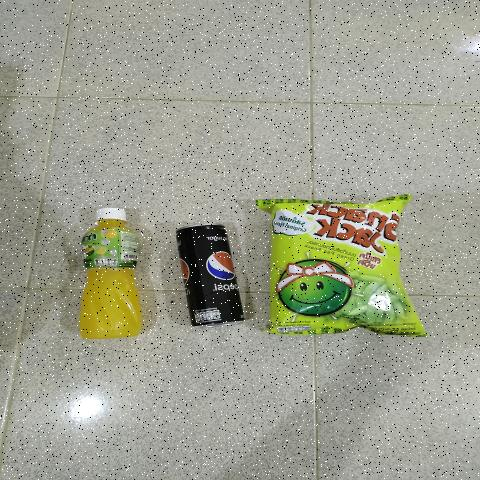pepsi_black: (183, 222, 232, 329)
snack_jack: (274, 200, 404, 321)
